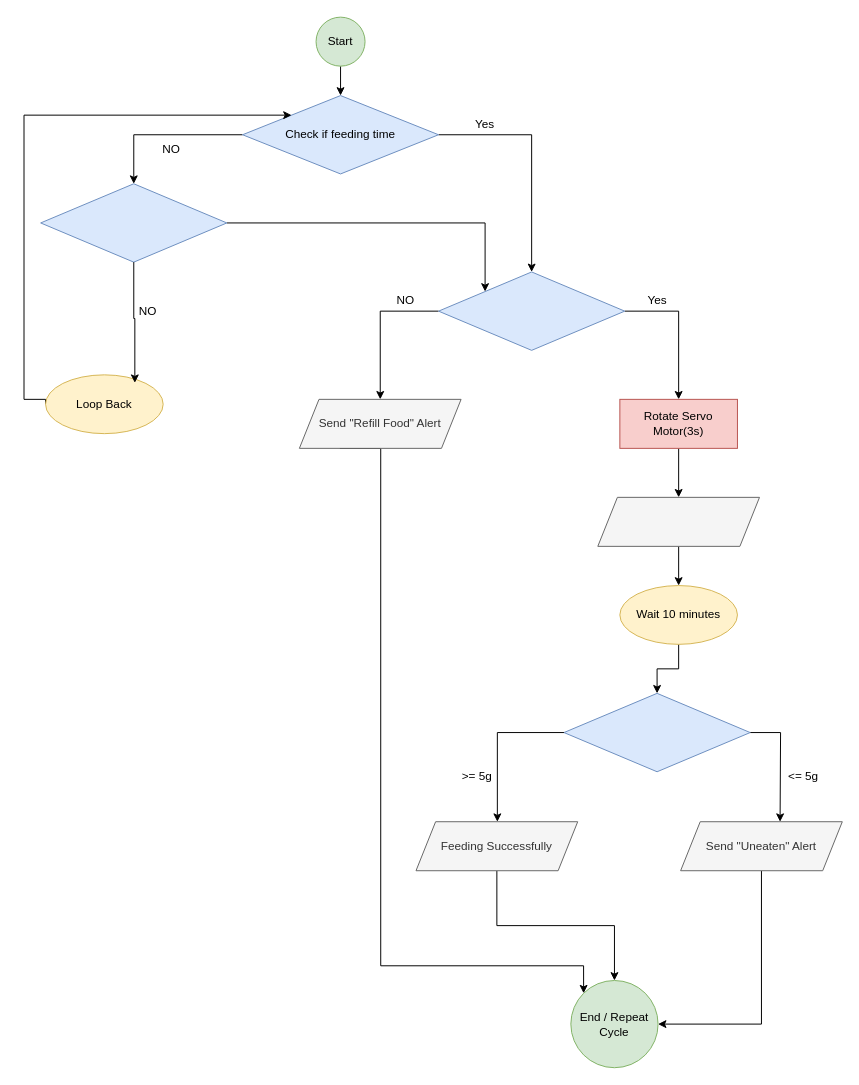
This 859x1085 diagram has some shape labels left out. The shapes that lost their labels are listed below. From the top down, each one's centre as x and y in pixels, then its label:
the point at 133,222: Manual feed Requested?
the point at 531,310: Is food available?
the point at 678,521: Record Bowl Weight
the point at 656,732: Check Bowl Weight Change
